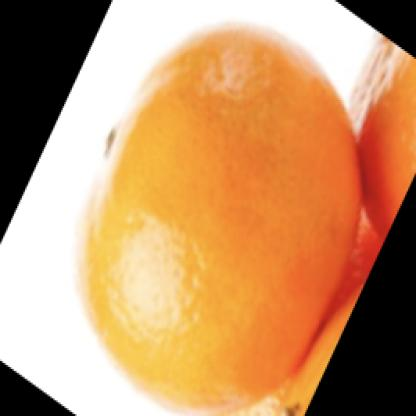fresh: (83, 26, 358, 408)
